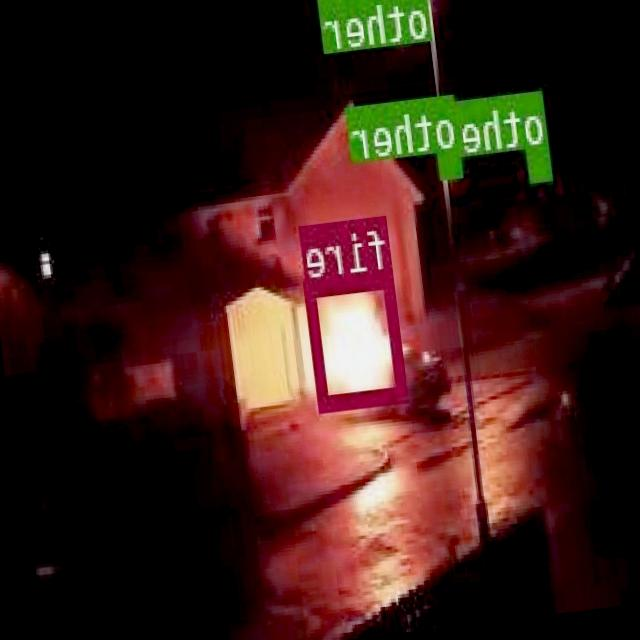fire: (306, 270, 408, 409)
